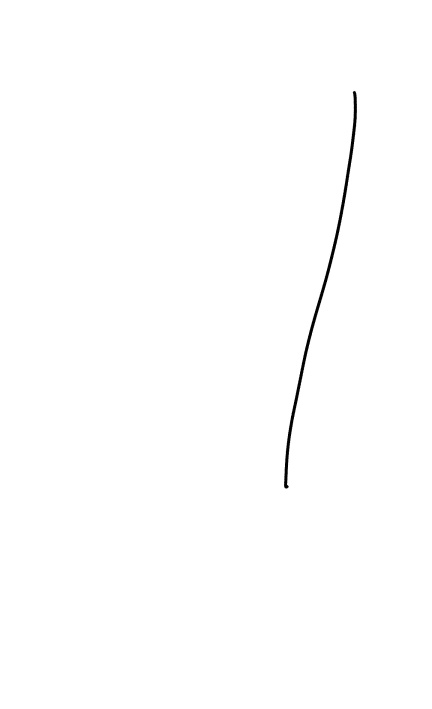Line: (271, 85, 366, 492)
